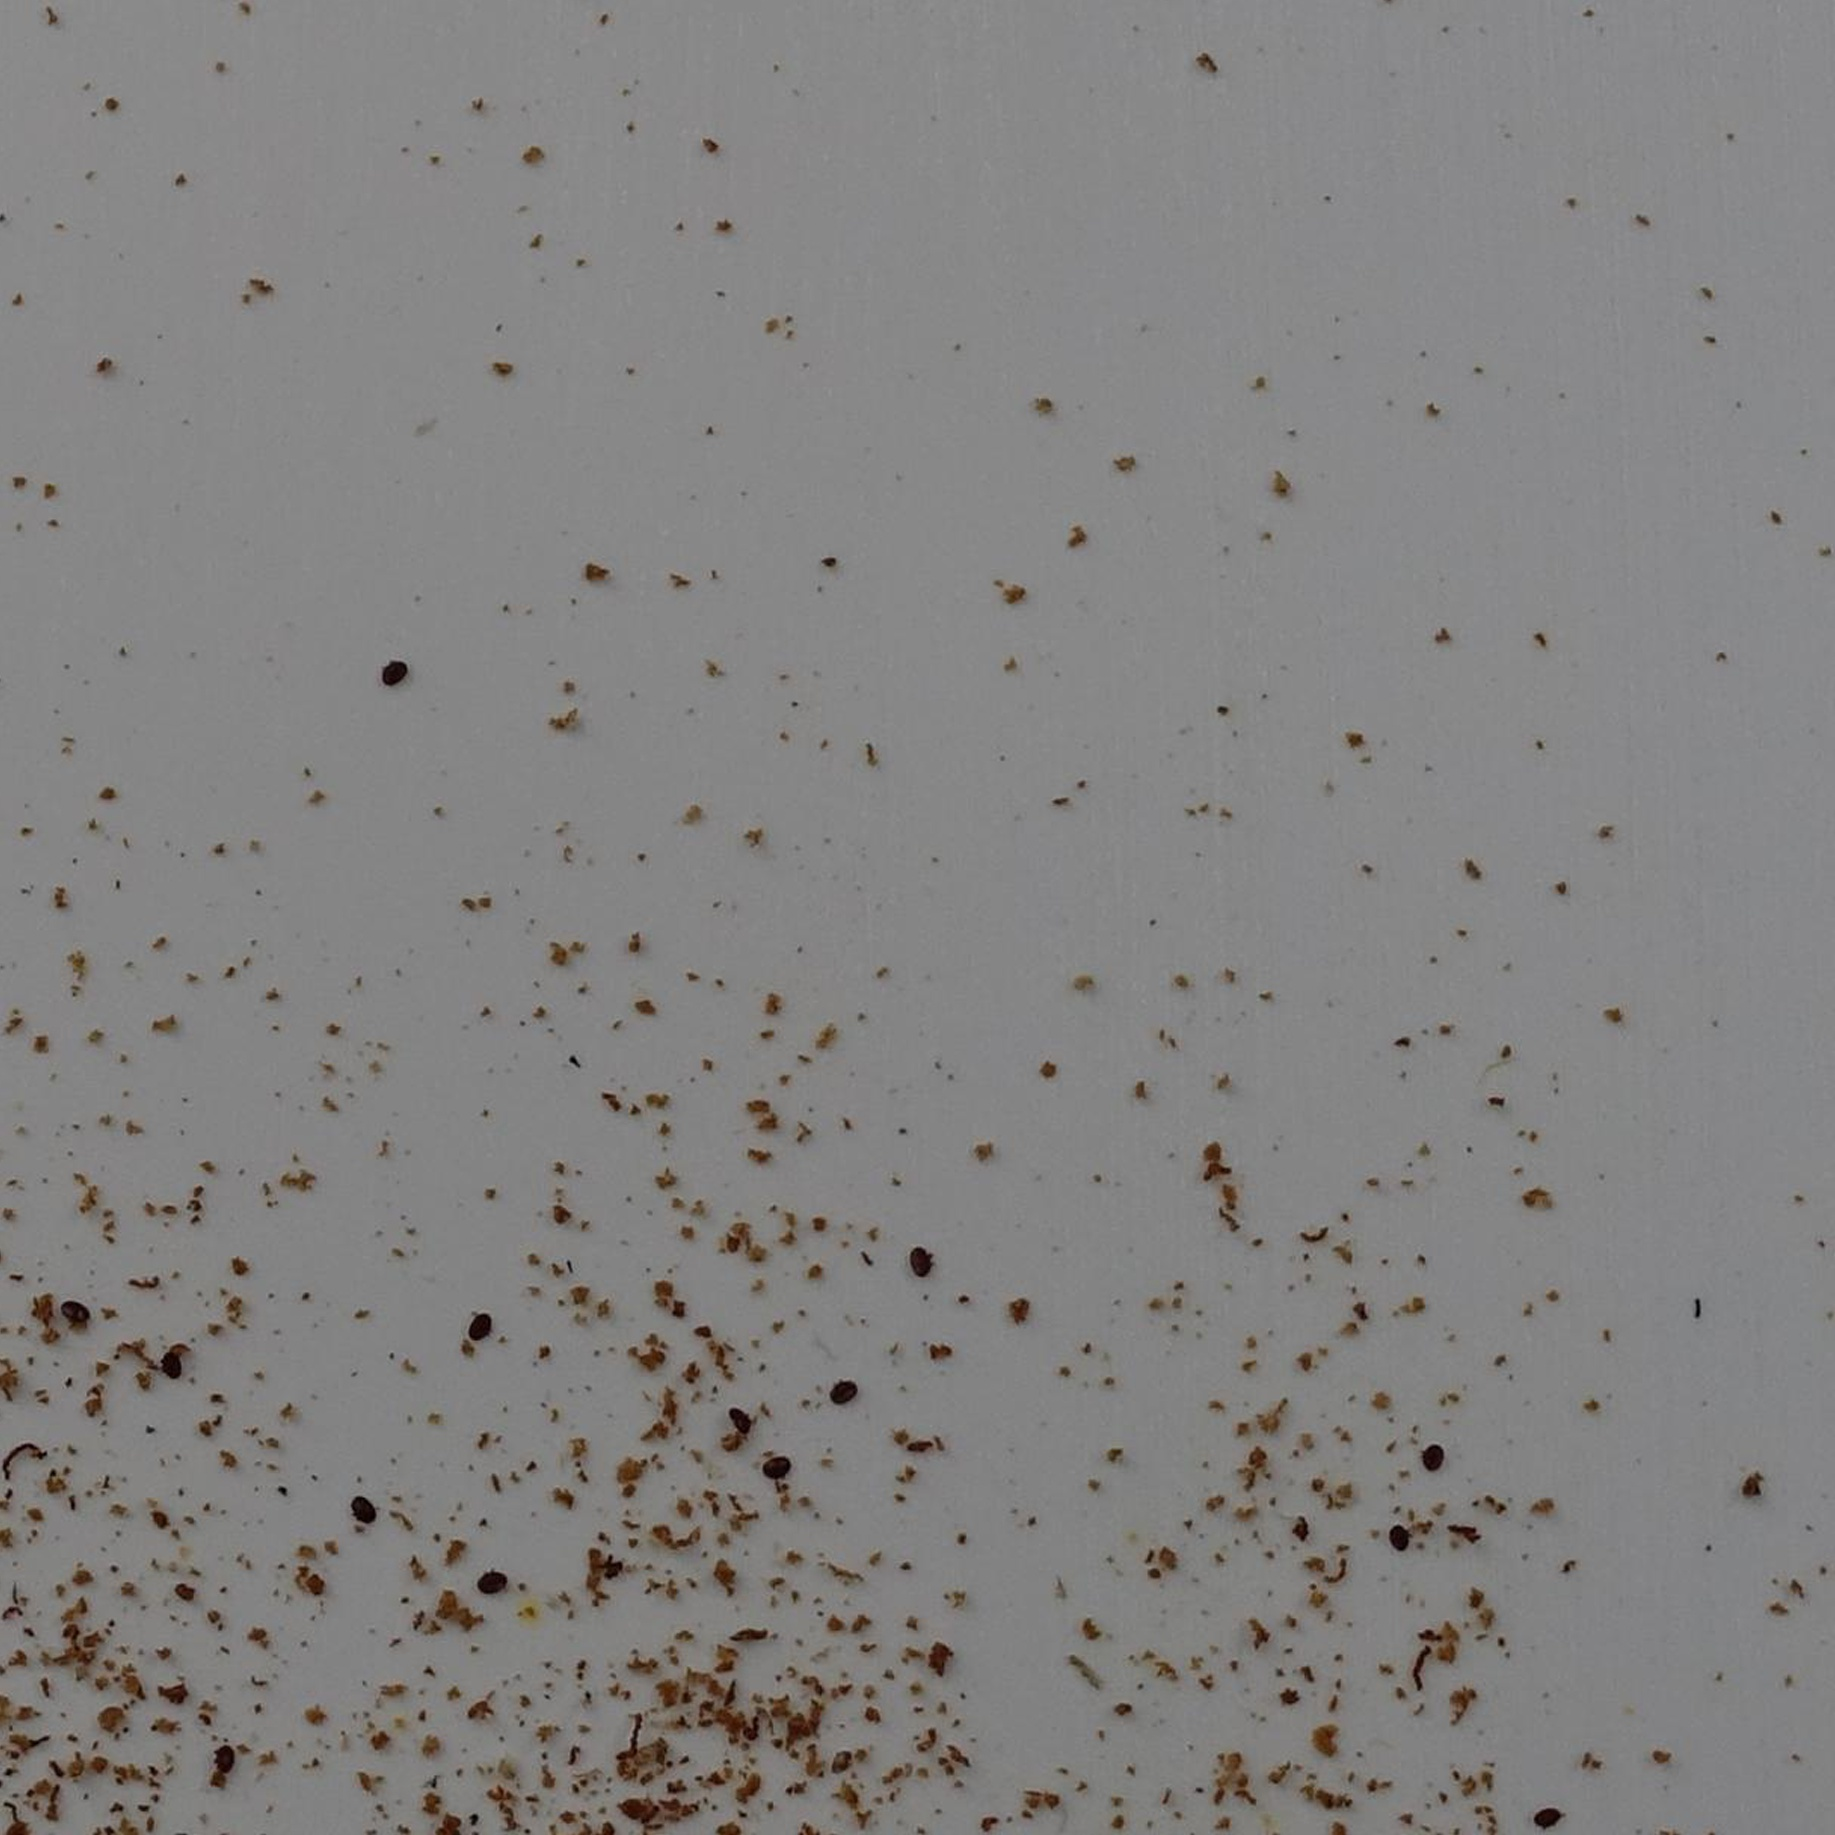Varroa: (723, 1401, 753, 1428), (832, 1376, 857, 1401), (1533, 1801, 1556, 1828), (911, 1250, 934, 1277), (351, 1494, 375, 1517), (66, 1296, 87, 1321), (766, 1454, 788, 1477), (163, 1353, 183, 1376), (1425, 1447, 1438, 1462), (1393, 1527, 1406, 1541), (474, 1316, 487, 1328), (218, 1748, 230, 1761), (393, 664, 405, 676), (489, 1571, 501, 1583)
